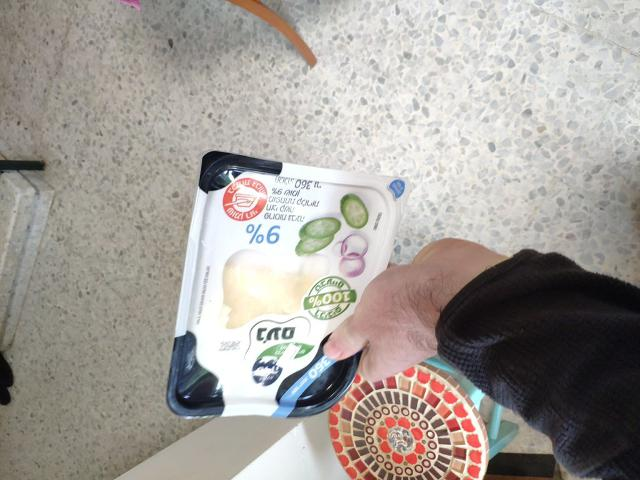cheese: (233, 158, 443, 368)
